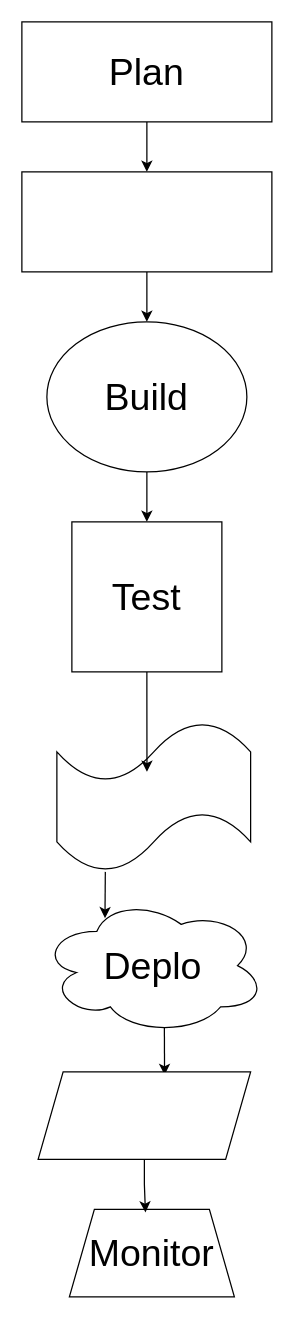
Image size: 294x1319. Some labels were removed from this diagram. The box of each missing label's shape, as (x1, y1, x2, y2) in pixels:
Develop: (21, 171, 272, 272)
Operate: (37, 1071, 251, 1159)
Release: (56, 721, 251, 872)
